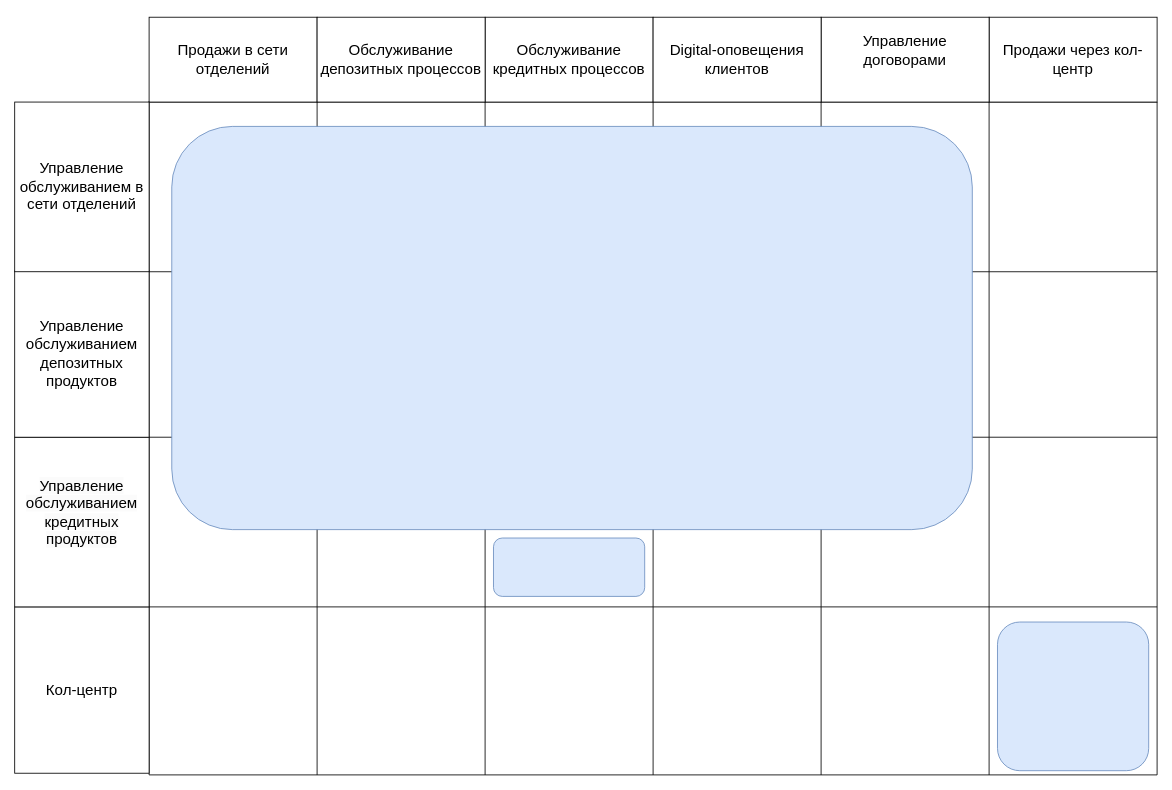
This 1172x790 diagram has some shape labels left out. The shapes that lost their labels are listed below. From the top down, each one's centre as x and y in pixels, then its label:
At (571,328): "АБС".
At (569,566): "Кредитный конвейер".
At (1073,696): "Система кол-центра".
